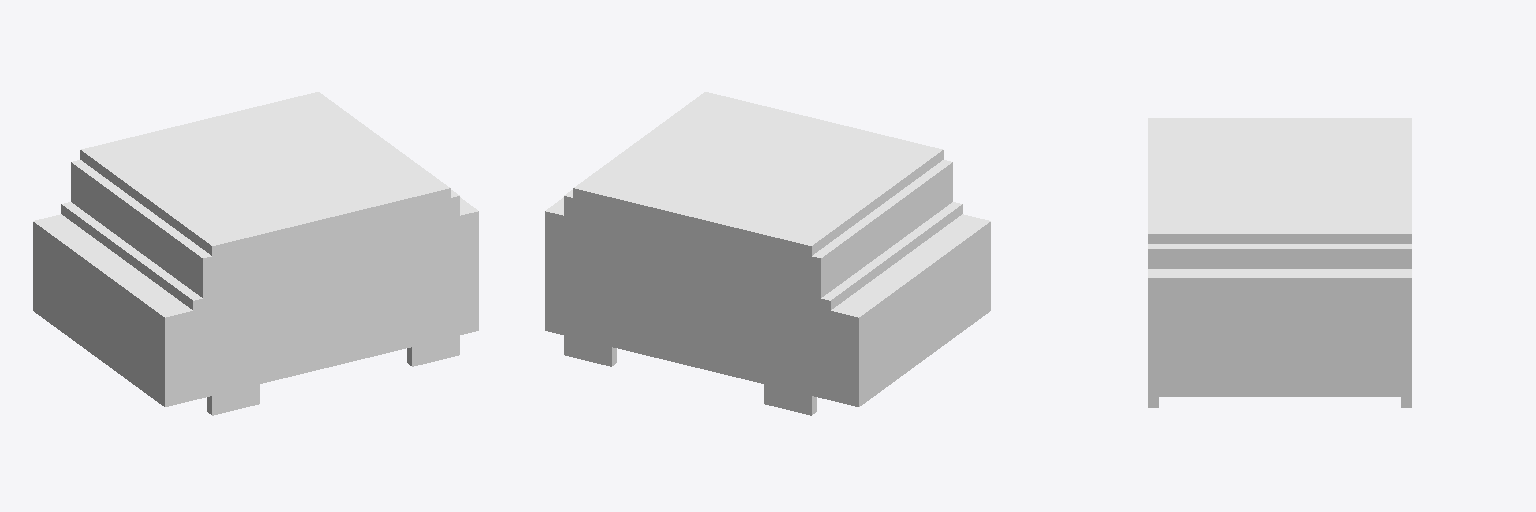
The model's file is carEscp.obj.
3 views of the same model, side by side, from view 1: azimuth 30°, elevation 25°; view 2: azimuth 150°, elevation 25°; view 3: azimuth 270°, elevation 25° (orthographic).
Visible parts, largest first — view 1: object 1; view 2: object 1; view 3: object 1.
Part boxes in pixels (left/top/right/bottom): object 1: left=33, top=92, right=478, bottom=415; object 1: left=545, top=92, right=990, bottom=415; object 1: left=1148, top=118, right=1411, bottom=407.
Bounding box in the file's own units: 3.3 × 1.7 × 2.4.